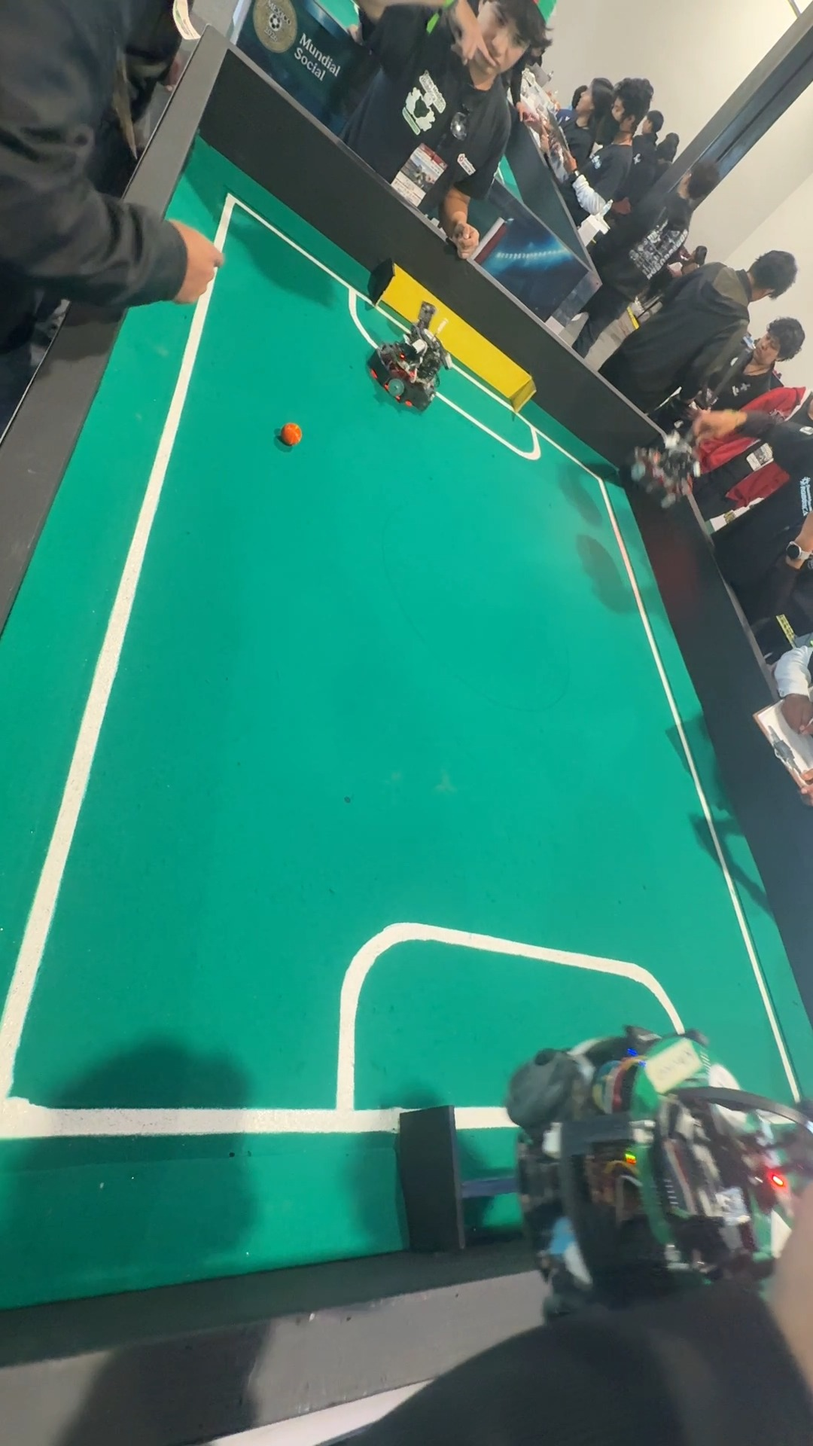Robot: (365, 289, 457, 421)
pelota: (281, 422, 304, 446)
